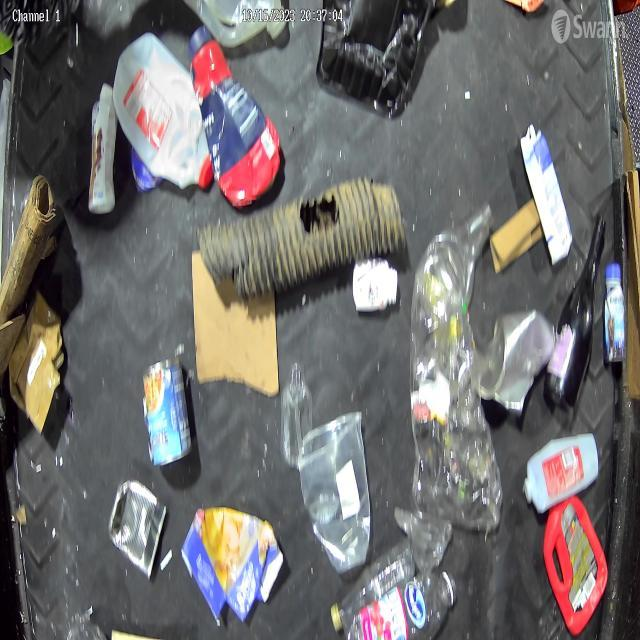can: (482, 299, 550, 422), (104, 471, 171, 583), (138, 350, 196, 475)
milk_jug: (109, 28, 218, 192)
non_white_jug: (542, 488, 606, 638)
plastic_bottle: (346, 557, 462, 640), (328, 535, 416, 629)
